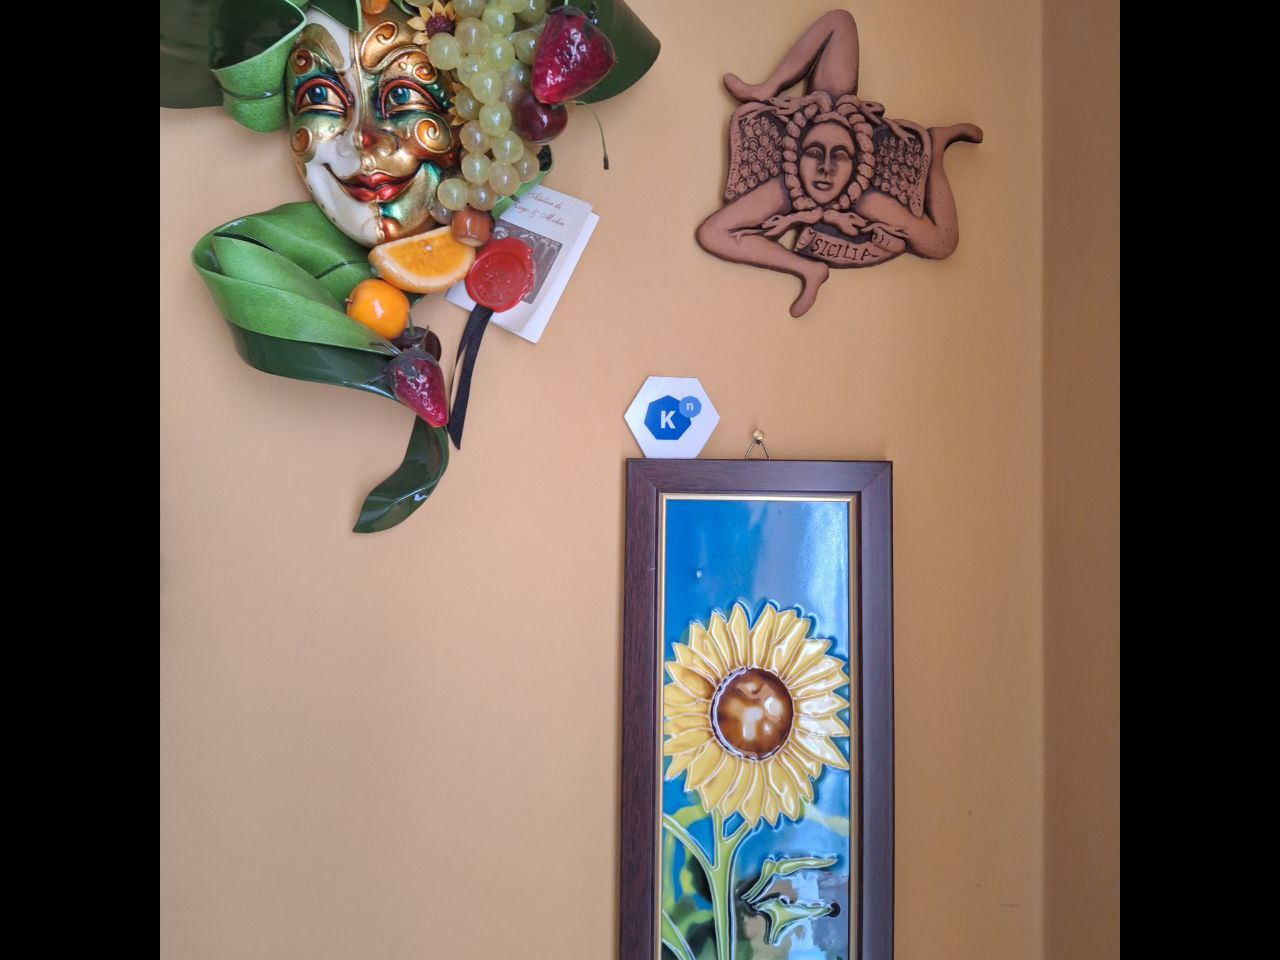knative: (644, 391, 700, 443)
